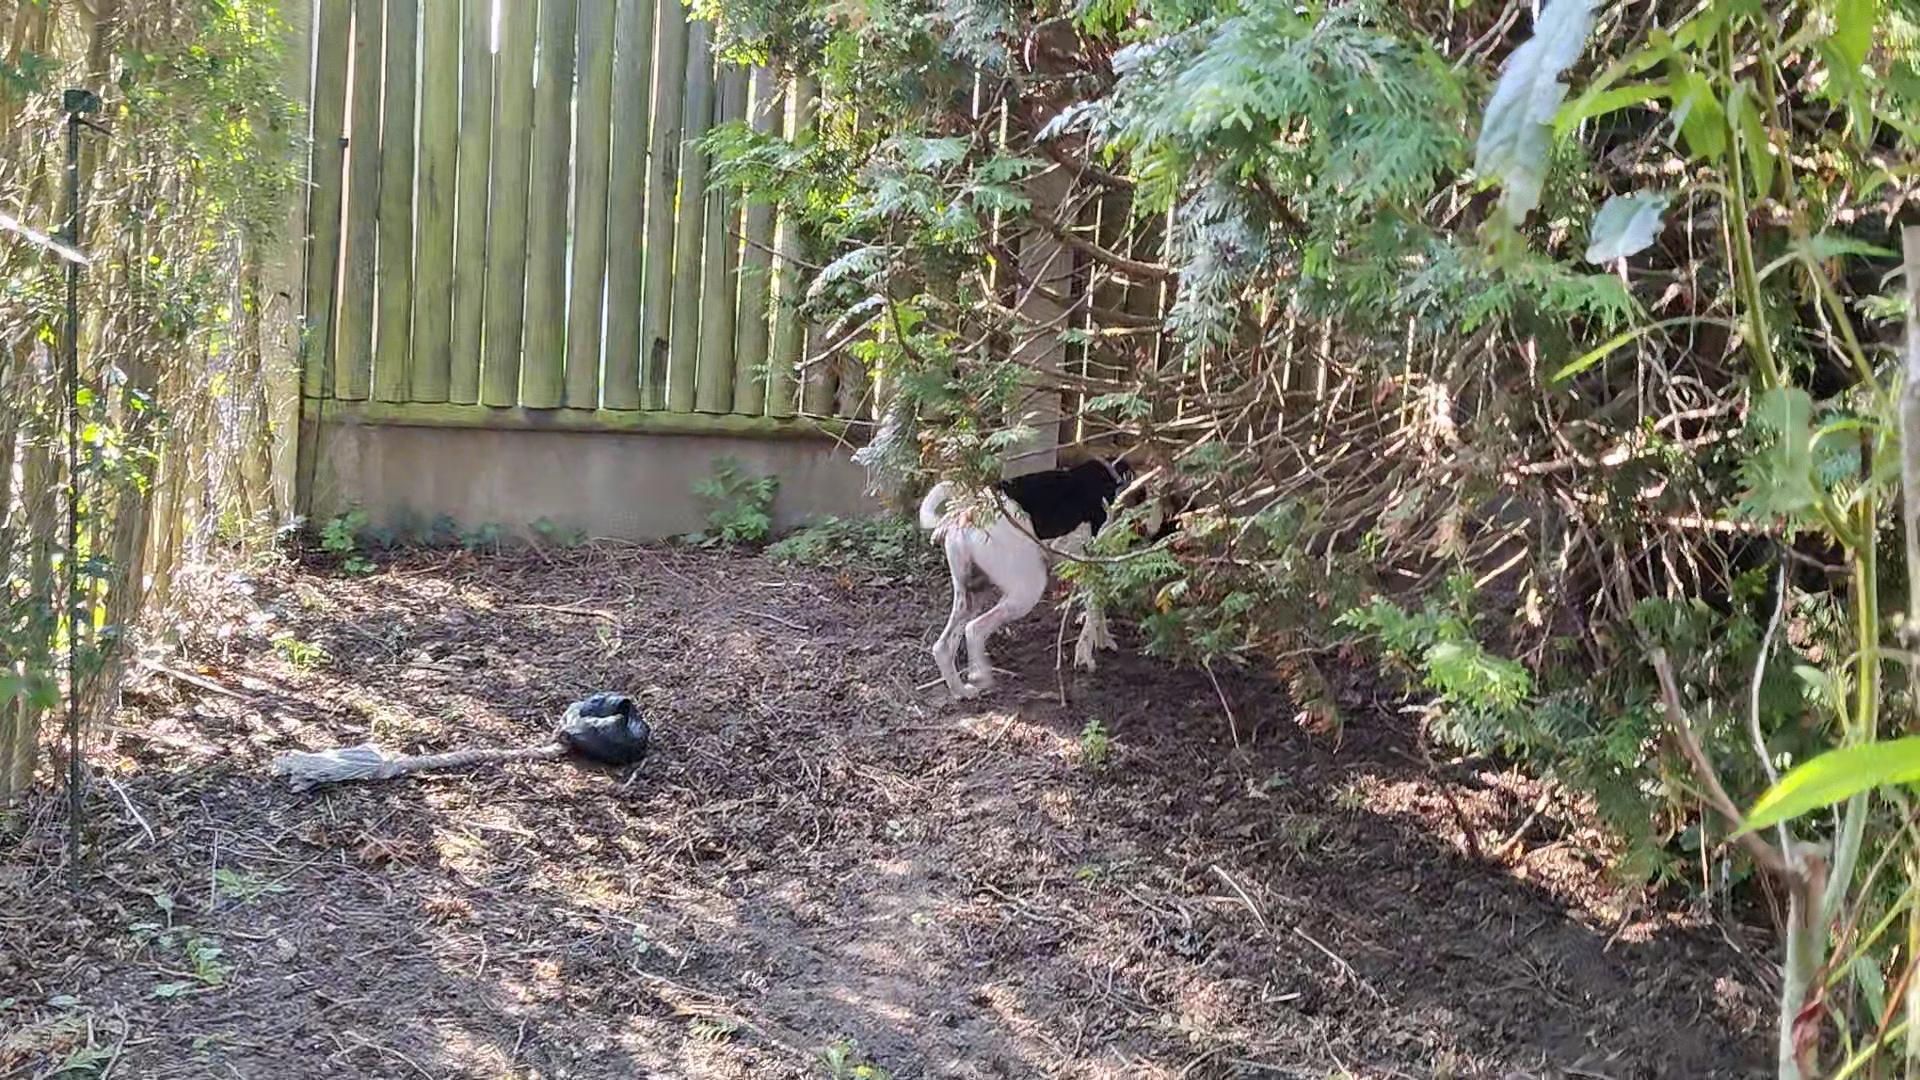Dog: (914, 447, 1205, 702)
